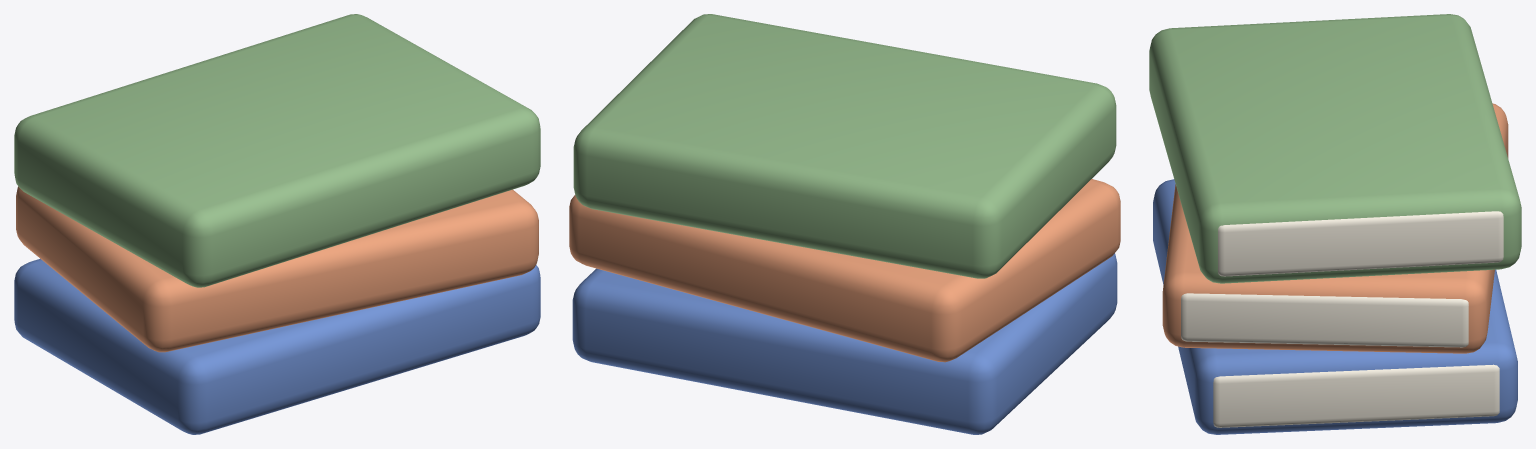
The model's file is books_stack.glb.
3 renders of one model, left to right at view 1: azimuth 30°, elevation 25°; view 2: azimuth 150°, elevation 25°; view 3: azimuth 270°, elevation 25°, orthographic. The views are drawn at different scales.
Visible parts, largest first — view 1: books_stack; view 2: books_stack; view 3: books_stack.
Part boxes in pixels (left/top/right/bottom): books_stack: left=14, top=14, right=540, bottom=434; books_stack: left=569, top=14, right=1120, bottom=434; books_stack: left=1149, top=14, right=1521, bottom=434.
Bounding box in the file's own units: 0.4498 × 0.235 × 0.3433.
